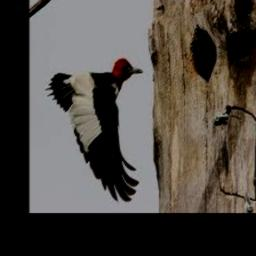Woodpecker: (44, 58, 142, 202)
